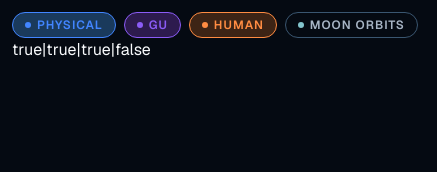
Test: LayerToggles › toggles all layers independently
The image size is (437, 172).
Click the button "GU".
click(152, 25)  # box [124, 12, 181, 38]
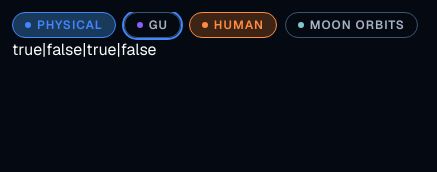
Click the button "Human".
click(233, 25)  # box [189, 12, 277, 38]
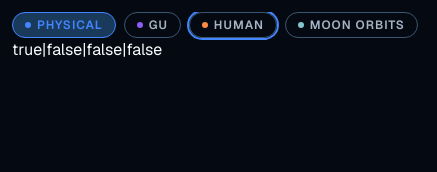
Click the button "Moon Orbits".
click(351, 25)  # box [285, 12, 418, 38]
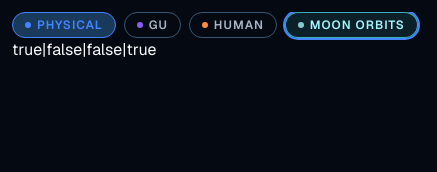
Result: the text with test id "probe" reads "true|false|false|true" at [12, 39, 156, 60]
